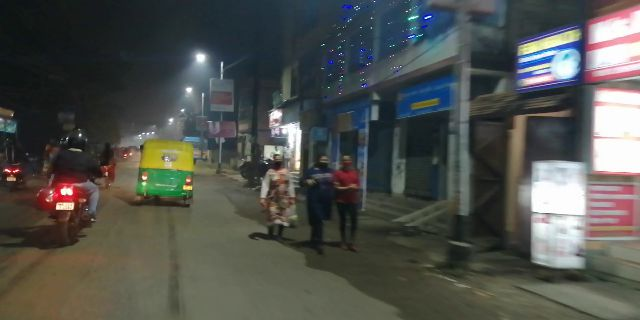Autorickshaw: (131, 136, 197, 214)
Motorbike: (44, 127, 100, 246)
